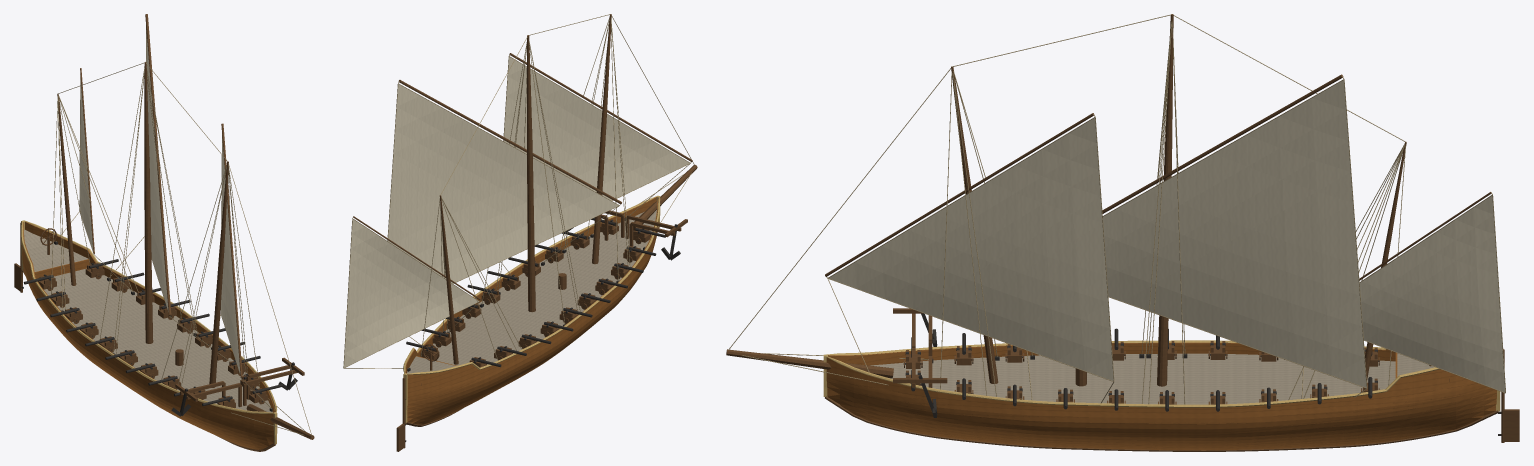
The model's file is ship.glb.
3 renders of one model, left to right at view 1: azimuth 30°, elevation 25°; view 2: azimuth 150°, elevation 25°; view 3: azimuth 270°, elevation 25°, orthographic. The views are drawn at different scales.
Parts seen in each view (by area): view 1: main_deck, hull_shell_starboard, main_lateen_00, main, fore_lateen_00, hull_shell_port, castle_deck_0, fore, mizzen_lateen_00, main_lateen_00_lateen_yard, gunwale_starboard, mizzen (+9 smaller); view 2: main_lateen_00, fore_lateen_00, mizzen_lateen_00, main_deck, hull_shell_starboard, main, fore, hull_shell_port, gunwale_starboard, main_lateen_00_lateen_yard, mizzen, fore_lateen_00_lateen_yard (+3 smaller); view 3: main_lateen_00, fore_lateen_00, hull_shell_port, mizzen_lateen_00, main_deck, hull_shell_starboard, gunwale_port, keel, main, bowsprit, main_lateen_00_lateen_yard, fore_lateen_00_lateen_yard (+2 smaller).
Boxes of the visible parts, bbox=[...] form: main_deck: bbox=[44, 268, 272, 412]; hull_shell_starboard: bbox=[22, 222, 273, 449]; main_lateen_00: bbox=[146, 30, 168, 310]; main: bbox=[144, 62, 153, 343]; fore_lateen_00: bbox=[221, 139, 240, 373]; hull_shell_port: bbox=[25, 222, 275, 412]; castle_deck_0: bbox=[24, 230, 88, 271]; fore: bbox=[209, 161, 228, 387]; mizzen_lateen_00: bbox=[79, 80, 93, 251]; main_lateen_00_lateen_yard: bbox=[145, 14, 171, 315]; gunwale_starboard: bbox=[21, 221, 273, 413]; mizzen: bbox=[57, 94, 76, 285]; main_lateen_00: bbox=[388, 84, 618, 283]; fore_lateen_00: bbox=[504, 57, 689, 200]; mizzen_lateen_00: bbox=[344, 219, 478, 367]; main_deck: bbox=[433, 210, 656, 365]; hull_shell_starboard: bbox=[407, 198, 658, 424]; main: bbox=[527, 35, 535, 312]; fore: bbox=[592, 14, 611, 264]; hull_shell_port: bbox=[405, 197, 656, 373]; gunwale_starboard: bbox=[407, 196, 660, 374]; main_lateen_00_lateen_yard: bbox=[398, 80, 621, 204]; mizzen: bbox=[439, 195, 458, 364]; fore_lateen_00_lateen_yard: bbox=[509, 53, 692, 161]; main_lateen_00: bbox=[1103, 80, 1366, 387]; fore_lateen_00: bbox=[829, 118, 1113, 380]; hull_shell_port: bbox=[826, 357, 1496, 450]; mizzen_lateen_00: bbox=[1359, 196, 1505, 392]; main_deck: bbox=[870, 353, 1395, 404]; hull_shell_starboard: bbox=[828, 342, 1395, 365]; gunwale_port: bbox=[826, 356, 1439, 407]; keel: bbox=[825, 396, 1498, 451]; main: bbox=[1157, 14, 1173, 386]; bowsprit: bbox=[726, 349, 893, 378]; main_lateen_00_lateen_yard: bbox=[1102, 74, 1343, 213]; fore_lateen_00_lateen_yard: bbox=[825, 113, 1094, 276].
Bounding box in the file's own units: 8.69 × 20.12 × 33.05.
Materials: 7 (7 with a texture image).
